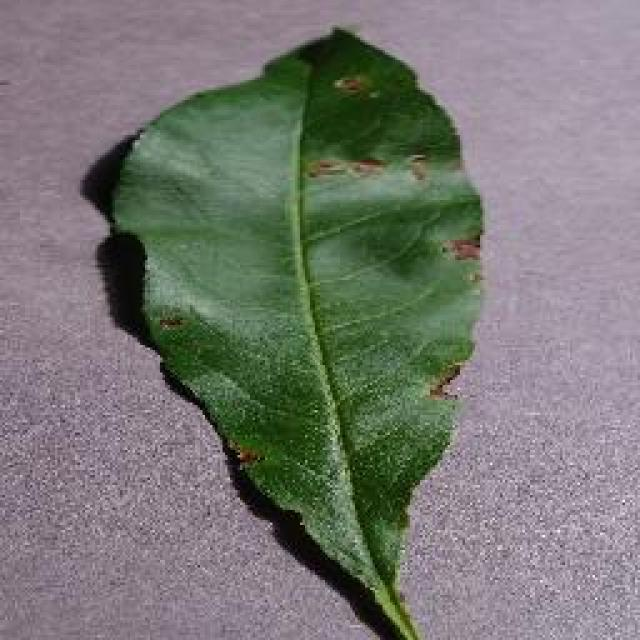Bacterial_spot: (305, 138, 461, 189), (436, 223, 493, 283)
